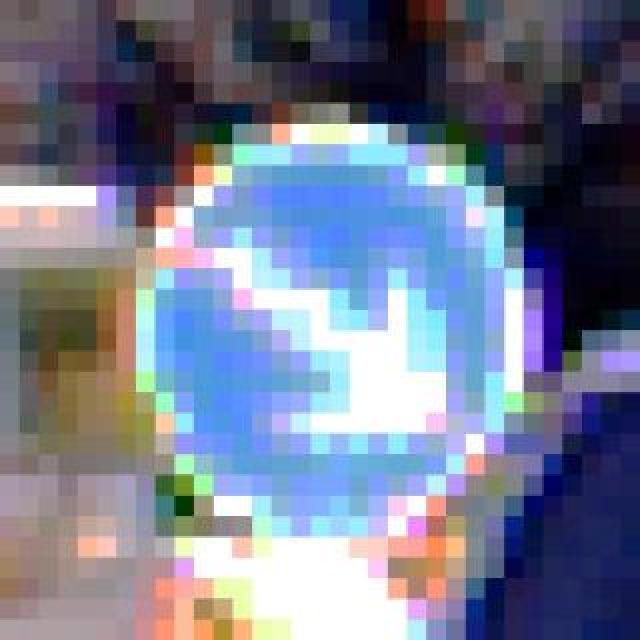keep right: (96, 84, 524, 538)
